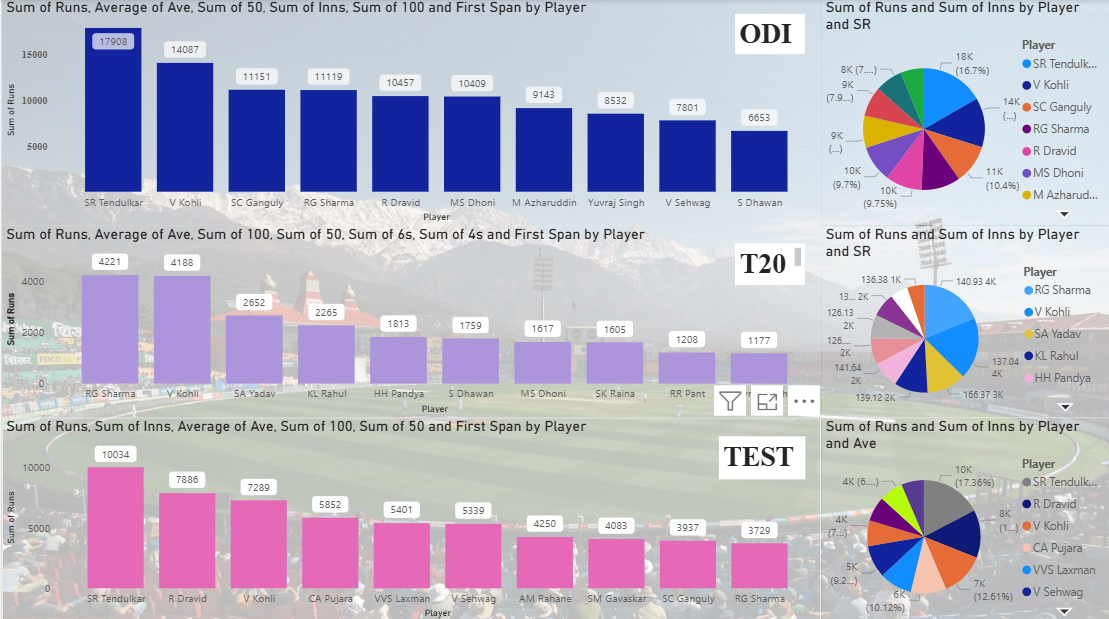

The dashboard page shown, as its layout file describes it:
{"tool":"powerbi","page":{"name":"Page 1","canvas":[1280,720],"ordinal":0},"visuals":[{"type":"lineStackedColumnComboChart","fields":{"Category":["batting ODI.Player"],"Y":["batting ODI.Runs"]},"box":[0,0,946.7,262],"z":0},{"type":"columnChart","fields":{"Category":["batting T20I.Player"],"Y":["batting T20I.Runs"]},"box":[0,261.7,946.7,221.7],"z":1000},{"type":"columnChart","fields":{"Y":["batting TEST.Runs"],"Category":["batting TEST.Player"]},"box":[0,483.3,946.7,236.7],"z":2000},{"type":"pieChart","fields":{"Category":["batting ODI.Player"],"Y":["batting ODI.Runs"],"Series":["batting ODI.SR"]},"box":[946.7,0,333.3,261.7],"z":3000},{"type":"pieChart","fields":{"Category":["batting T20I.Player","batting T20I.Ave"],"Series":["batting T20I.SR"],"Y":["batting T20I.Runs"]},"box":[947,262,333,222],"z":4000},{"type":"pieChart","fields":{"Category":["batting TEST.Player"],"Y":["batting TEST.Runs"],"Series":["batting TEST.Ave"]},"box":[946.7,483.3,333.3,236.7],"z":5000},{"type":"textbox","box":[846.9,17.2,81.1,46.8],"z":6000},{"type":"textbox","box":[846.9,282.3,81.1,48.3],"z":7000},{"type":"textbox","box":[828.1,505.3,99.8,49.9],"z":8000}]}

Visuals, with their boxes in screenshot pixels (x1, y1, x2, y2), scaled from the page's 1280x720 canvas onto the 1109x619 screenshot:
lineStackedColumnComboChart - batting ODI.Player x batting ODI.Runs: box(0, 0, 820, 225)
columnChart - batting T20I.Player x batting T20I.Runs: box(0, 225, 820, 416)
columnChart - batting TEST.Runs x batting TEST.Player: box(0, 416, 820, 618)
pieChart - batting ODI.Player x batting ODI.Runs: box(820, 0, 1108, 225)
pieChart - batting T20I.Player x batting T20I.Ave: box(820, 225, 1108, 416)
pieChart - batting TEST.Player x batting TEST.Runs: box(820, 416, 1108, 618)
textbox: box(734, 15, 804, 55)
textbox: box(734, 243, 804, 284)
textbox: box(717, 434, 804, 477)
